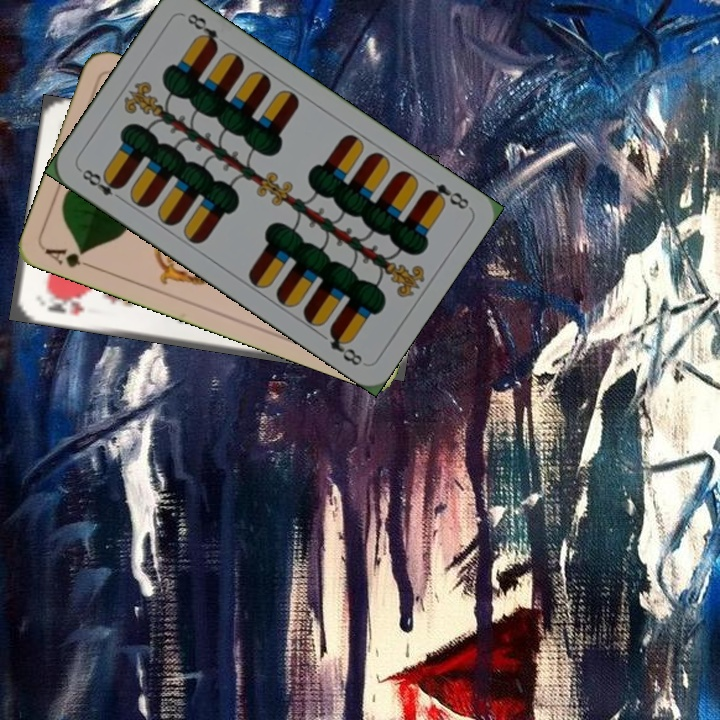E8: (75, 165, 127, 204), (420, 179, 472, 212)
GA: (41, 244, 99, 273)
HK: (41, 290, 87, 318)
